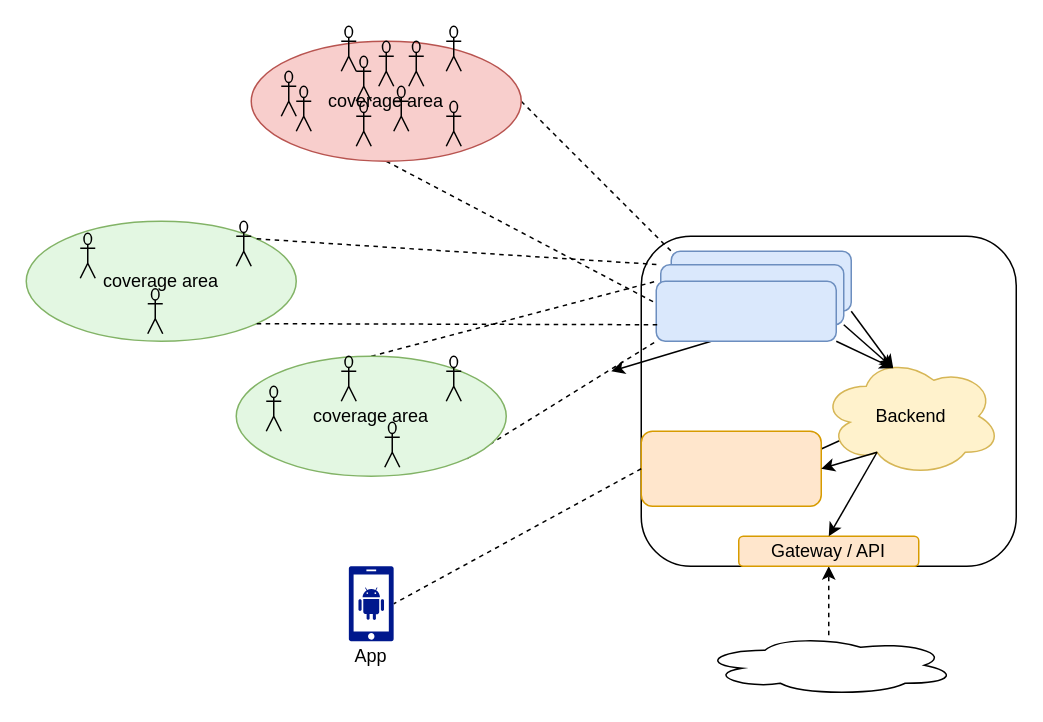
Image size: 1043x722. Some labels were removed from this diagram. Each missing label, with the box of its shape:
ACQ FE: (655, 280, 836, 341)
Downstream Apps: (700, 634, 956, 695)
User Interface(s): (640, 430, 821, 506)
